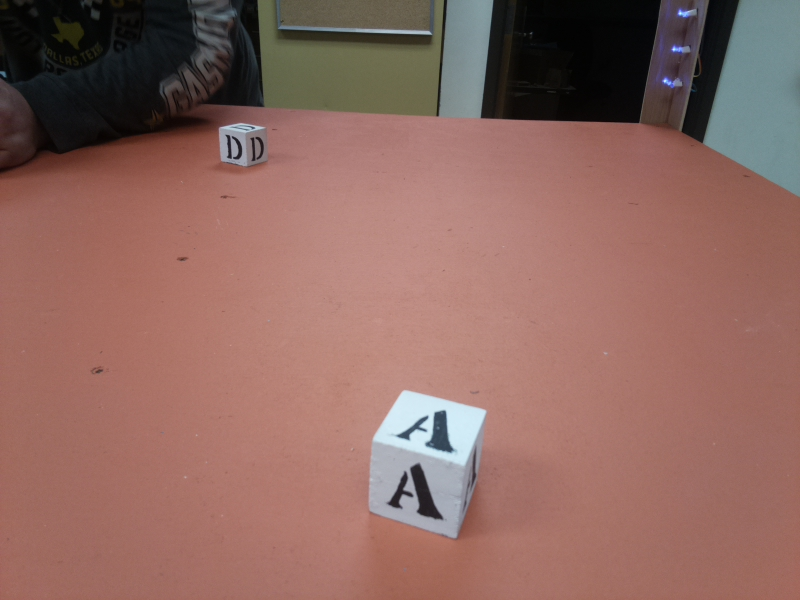blockA: (367, 389, 486, 544)
blockD: (218, 123, 266, 170)
corner: (632, 1, 710, 137)
